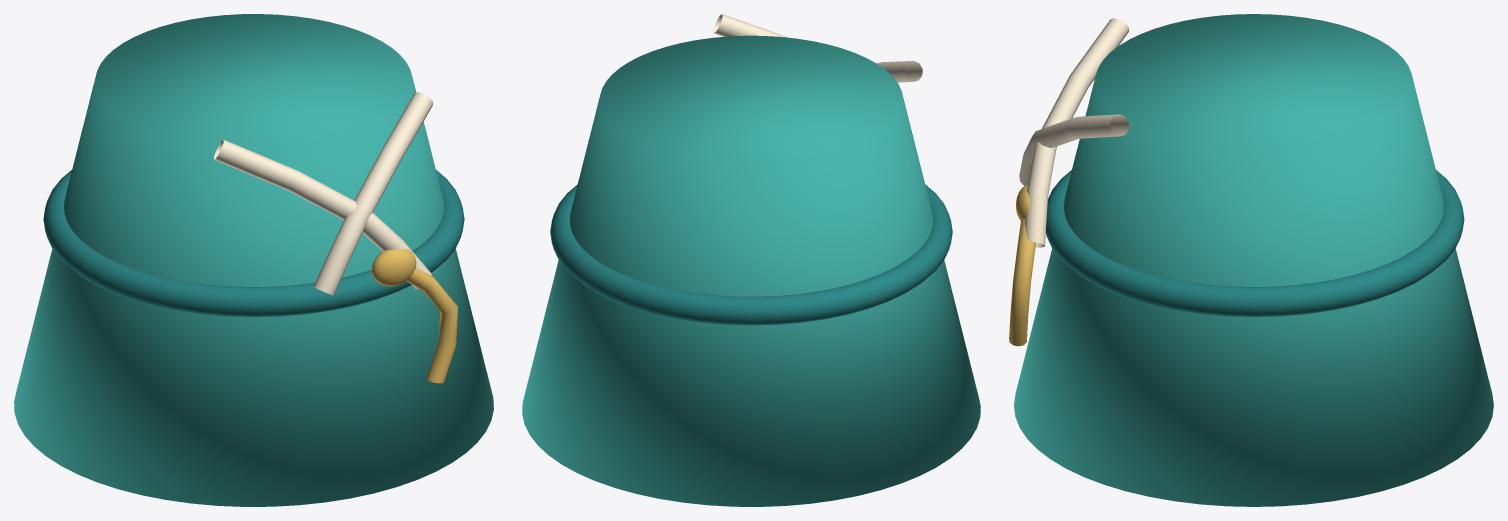
The model's file is hanbok.glb.
3 renders of one model, left to right at view 1: azimuth 30°, elevation 25°; view 2: azimuth 150°, elevation 25°; view 3: azimuth 270°, elevation 25°, orthographic. The views are drawn at different scales.
Visible parts, largest first — view 1: Hanbok_Robe, Hanbok_Waist_Band, Hanbok_Right_Collar, Hanbok_Left_Collar, Hanbok_Ribbon, Hanbok_Knot; view 2: Hanbok_Robe, Hanbok_Waist_Band, Hanbok_Right_Collar, Hanbok_Left_Collar; view 3: Hanbok_Robe, Hanbok_Waist_Band, Hanbok_Left_Collar, Hanbok_Right_Collar, Hanbok_Ribbon.
Boxes of the visible parts, <box> form: Hanbok_Robe: <box>14,14,493,506</box>; Hanbok_Waist_Band: <box>43,170,464,316</box>; Hanbok_Right_Collar: <box>313,92,433,295</box>; Hanbok_Left_Collar: <box>214,139,431,289</box>; Hanbok_Ribbon: <box>406,268,457,383</box>; Hanbok_Knot: <box>372,249,416,286</box>; Hanbok_Robe: <box>522,35,980,506</box>; Hanbok_Waist_Band: <box>550,184,952,325</box>; Hanbok_Right_Collar: <box>713,14,788,37</box>; Hanbok_Left_Collar: <box>877,60,922,82</box>; Hanbok_Robe: <box>1014,14,1493,506</box>; Hanbok_Waist_Band: <box>1046,170,1464,316</box>; Hanbok_Left_Collar: <box>1024,18,1129,247</box>; Hanbok_Right_Collar: <box>1019,114,1128,185</box>; Hanbok_Ribbon: <box>1009,218,1035,346</box>.
Size of the model in its own units: 2.36 by 1.84 by 2.38.
